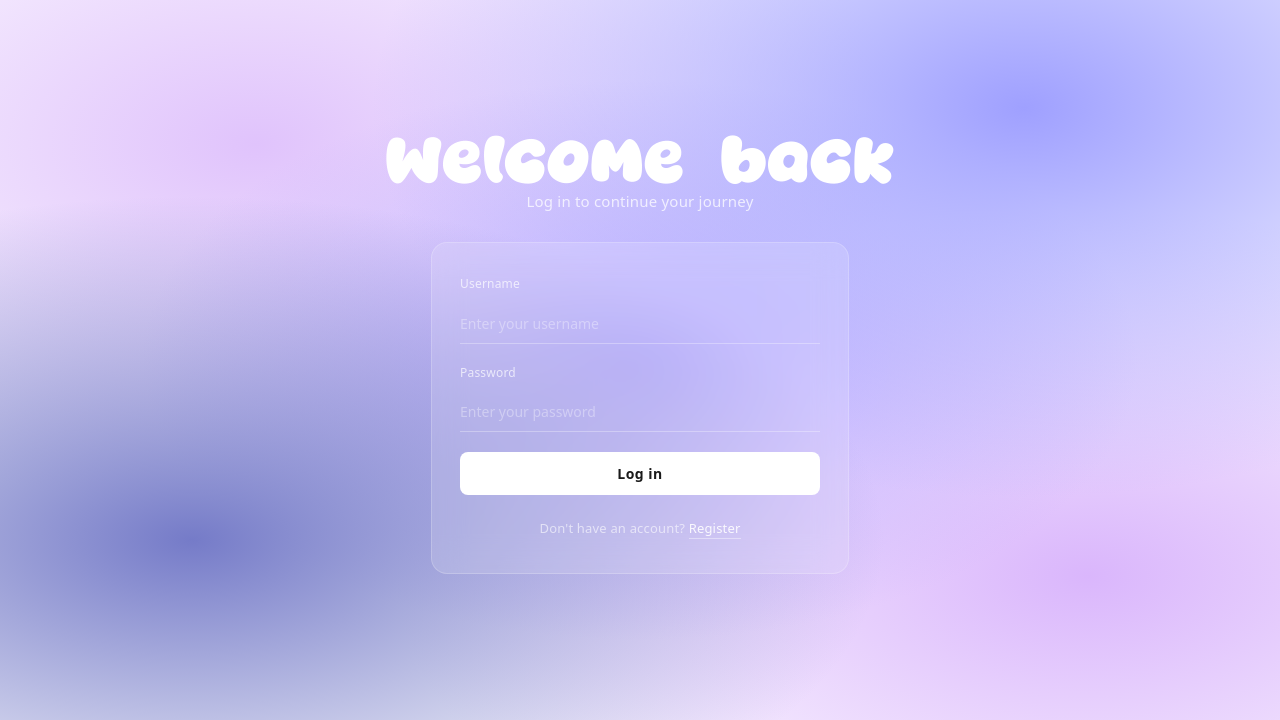
Test: Login page › shows error on failed login
The width and height of the screenshot is (1280, 720).
Type "alice" into the field labelled "Username" at (640, 324), box x1=460 y1=304 x2=820 y2=344
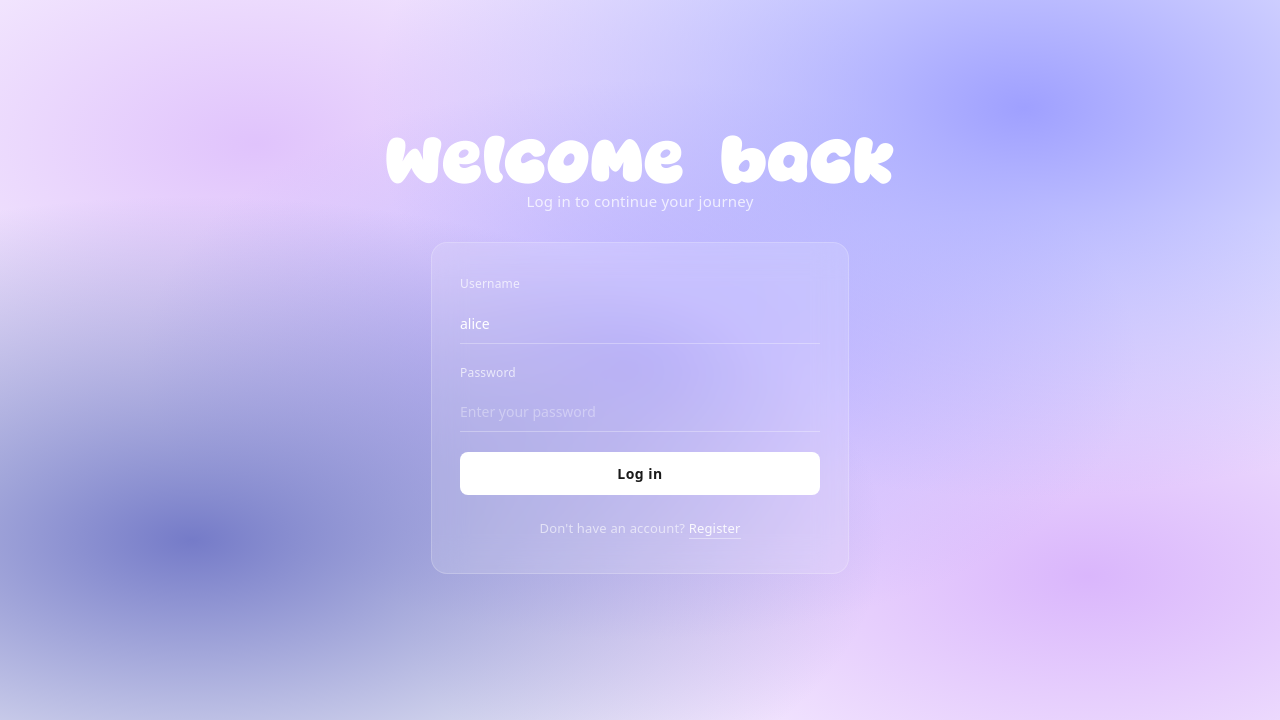
Type "wrong" into the password field labelled "Password" at (640, 412), box x1=460 y1=392 x2=820 y2=432
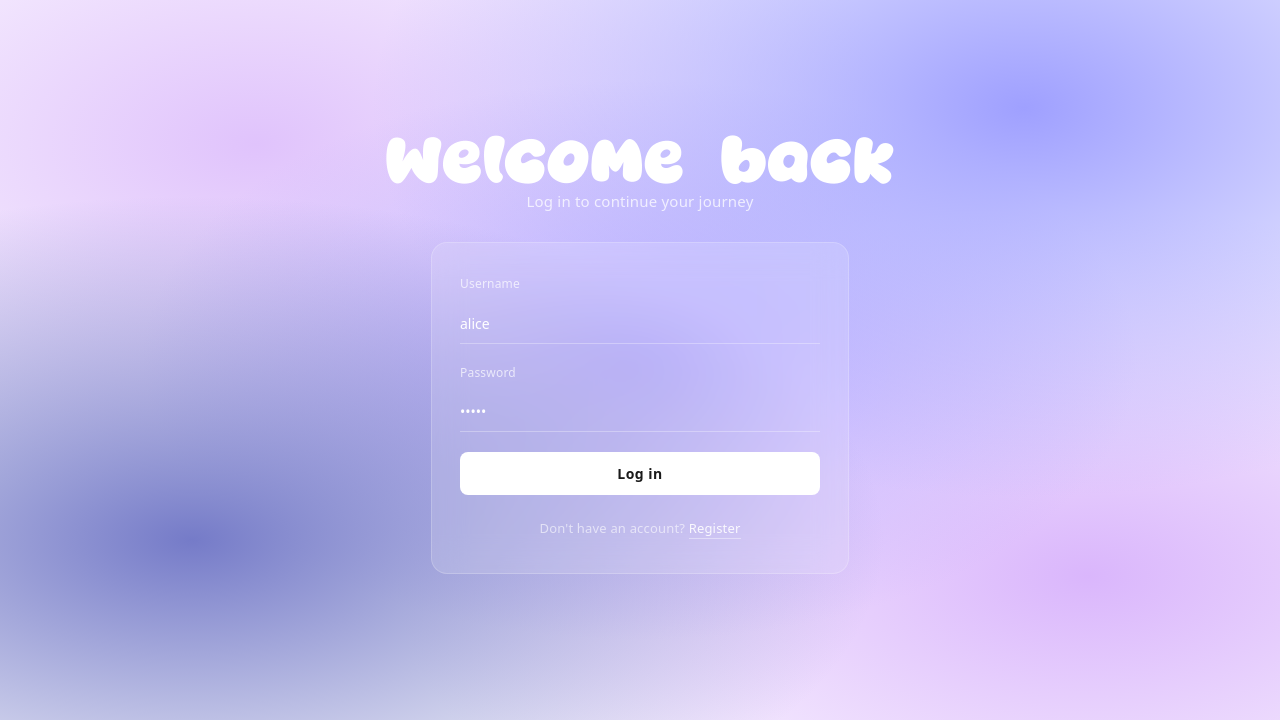
Click the button "Log in" at (640, 473), box x1=460 y1=452 x2=820 y2=495
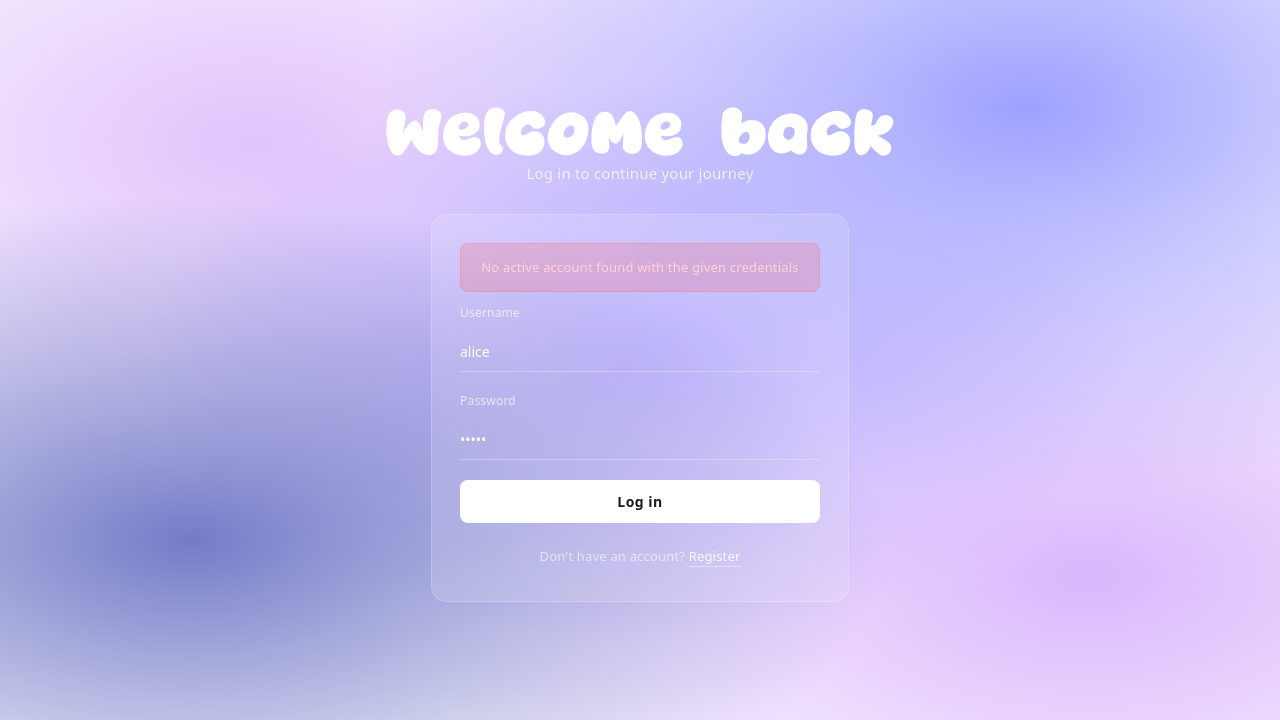
Expected: the text "No active account found with the given credentials" is shown, x1=460 y1=243 x2=820 y2=292
